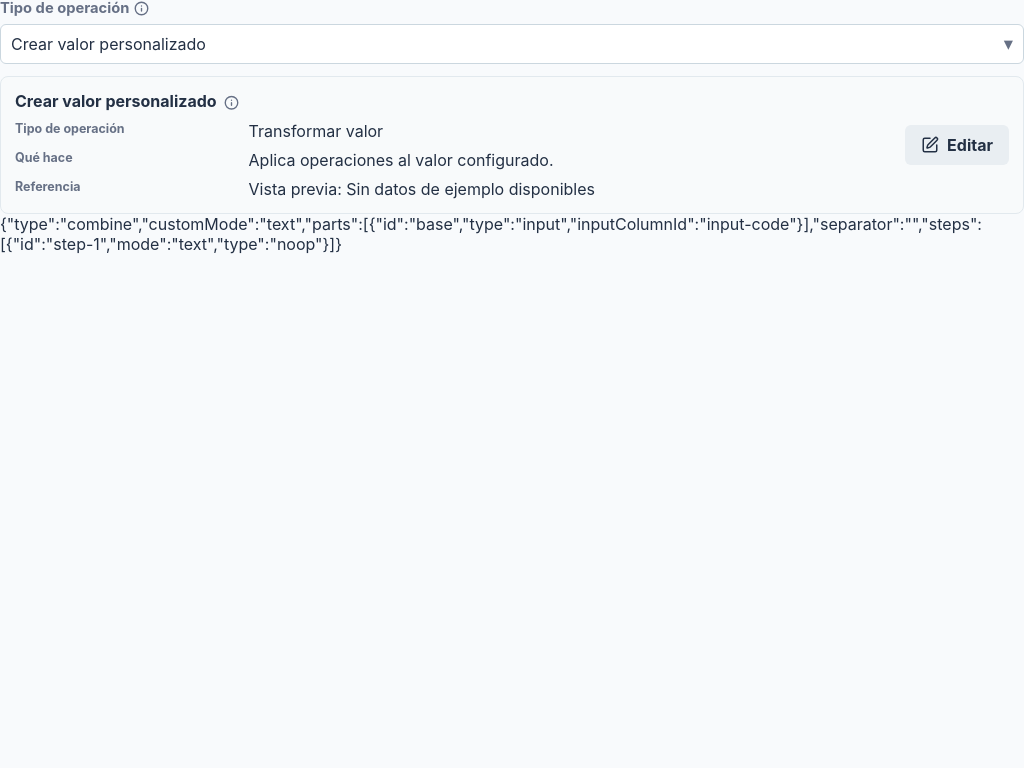
Test: OutputColumnRecipeEditor interactive modal flow › renders the spreadsheet on the first selection of manual ranges from an empty step
Click the button "Editar" at (957, 145), box [905,125,1009,165]
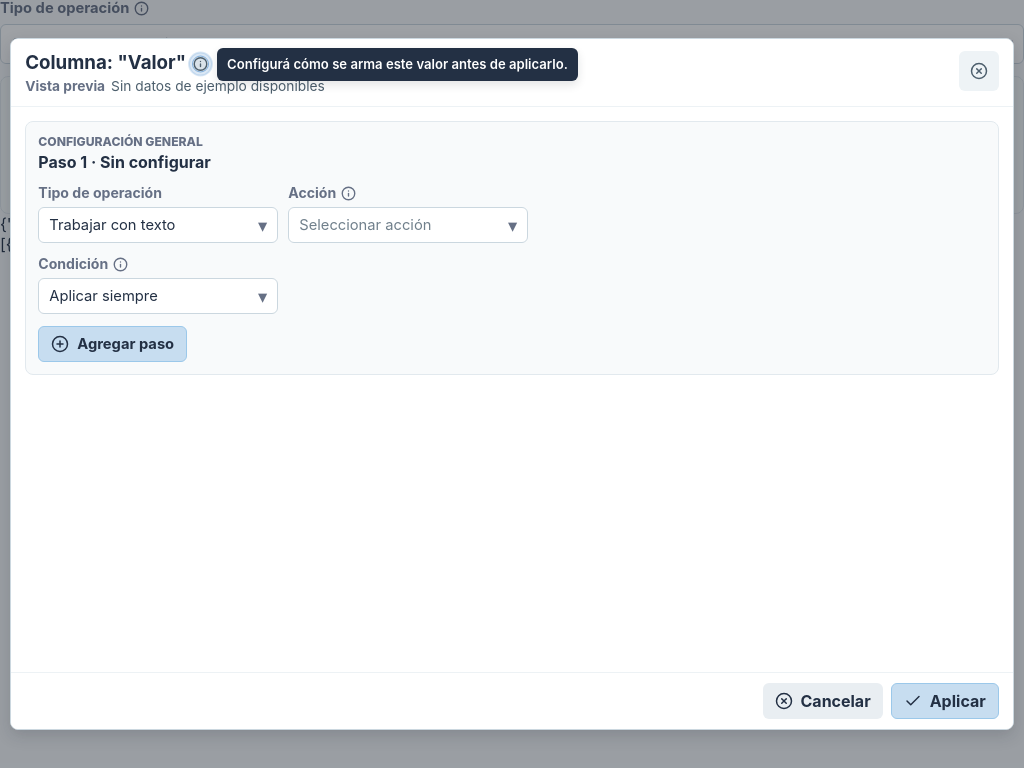
Check: the text "Vista de filas para rangos" is not shown
Check: the button named "Tipo de operación" is shown
Click the button named "Tipo de operación" at (158, 225), box [38,207,278,243]
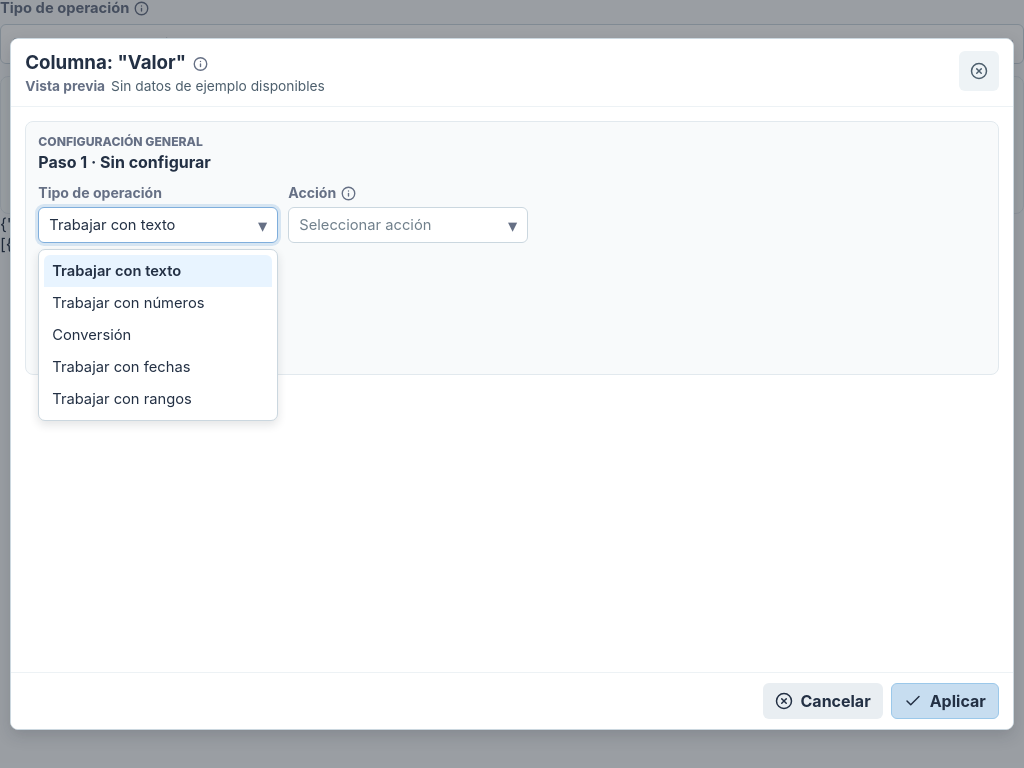
Click the option "Trabajar con rangos" at (158, 399), box [44,383,272,415]
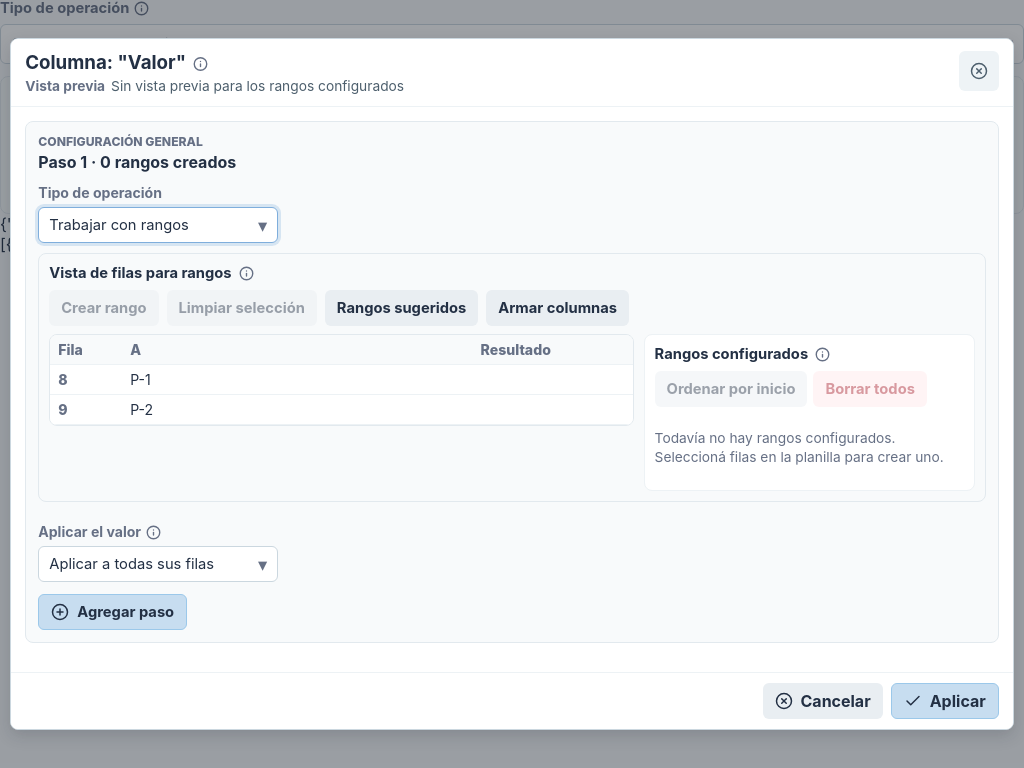
Check: the text "Vista de filas para rangos" is shown once, box [49,264,232,282]
Check: the number of elements with class "manualRangeSpreadsheet" is 1, box [38,253,986,502]
Check: the text "Acci.n" is gone
